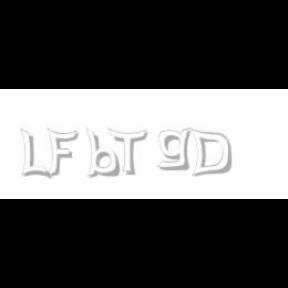D: (188, 128, 232, 178)
F: (46, 128, 78, 178)
L: (20, 128, 48, 180)
T: (107, 128, 147, 176)
b: (85, 128, 123, 178)
g: (158, 128, 195, 171)
